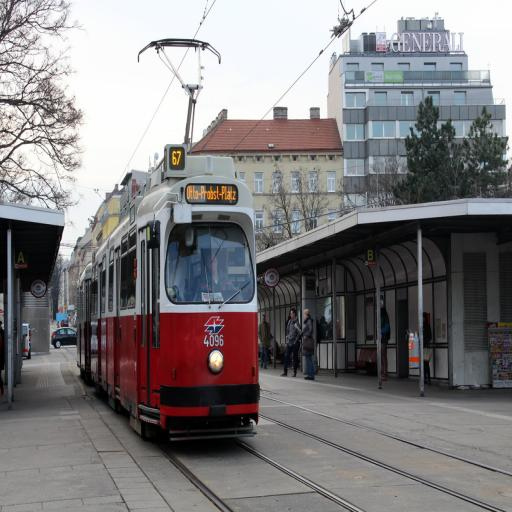E2-Tram: (72, 142, 262, 438)
